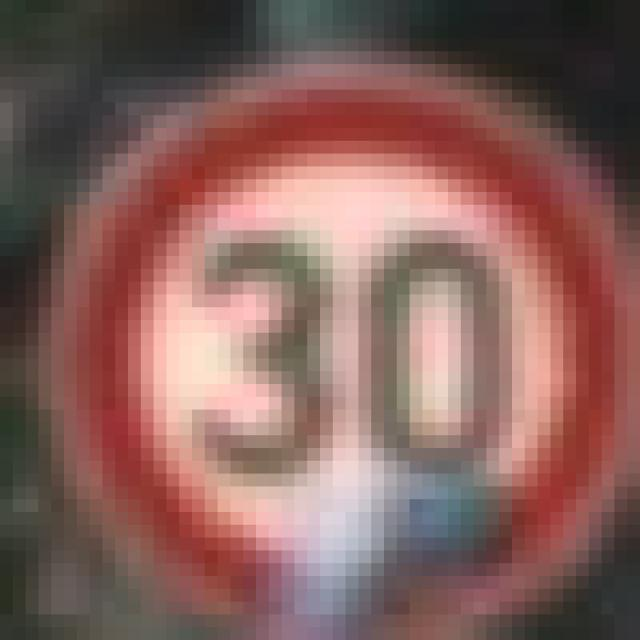SPEED_LIMIT_30: (26, 51, 627, 602)
